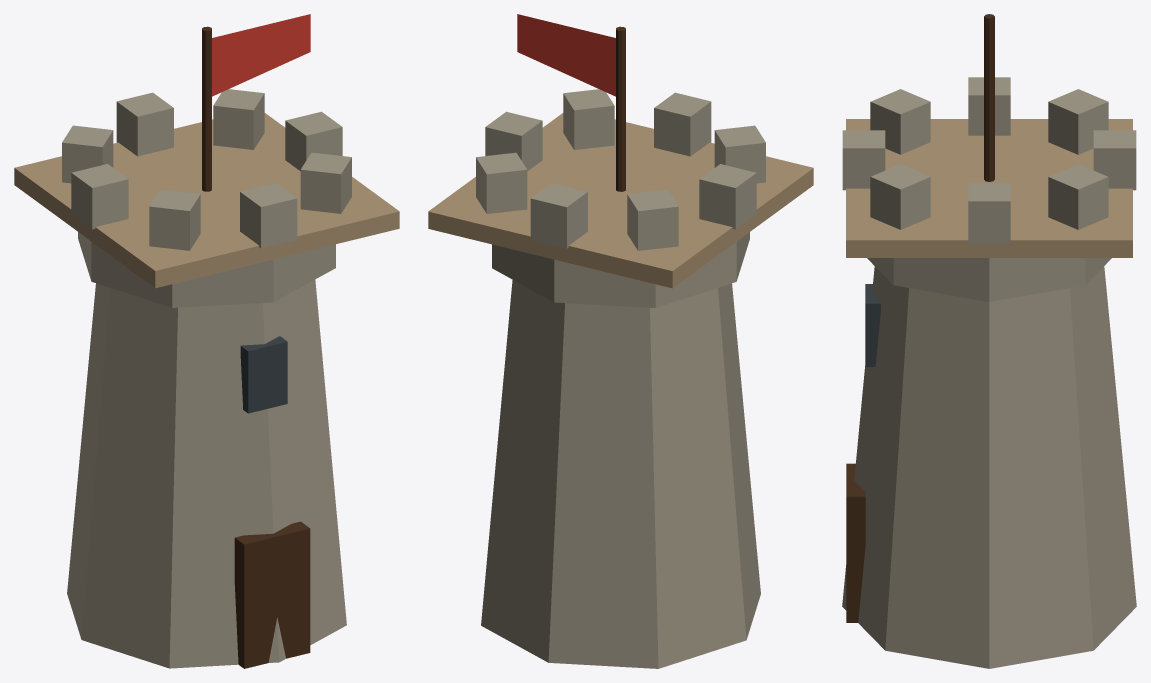
Rendered from era1-watchtower-0gvvD4HQ.glb.
The picture shows the model from 3 angles, left to right: view 1: azimuth 30°, elevation 25°; view 2: azimuth 150°, elevation 25°; view 3: azimuth 270°, elevation 25°; orthographic projection.
Parts seen in each view (by area): view 1: WT_Base, WT_Platform, WT_Door, WT_Crown, WT_Flag, WT_Merlon6, WT_Window, WT_Merlon4, WT_Merlon2, WT_Merlon5, WT_Merlon7, WT_Merlon1 (+3 smaller); view 2: WT_Base, WT_Platform, WT_Crown, WT_Flag, WT_Merlon2, WT_Merlon4, WT_Merlon6, WT_Merlon1, WT_Merlon3, WT_Merlon7, WT_Merlon0, WT_Merlon5 (+1 smaller); view 3: WT_Base, WT_Platform, WT_Crown, WT_Merlon1, WT_Merlon7, WT_Merlon3, WT_Merlon5, WT_Door, WT_Merlon0, WT_Merlon2, WT_Merlon6, WT_Merlon4 (+2 smaller).
Boxes of the visible parts, x1,y1,x2,y2 form: WT_Base: (67,280,346,668); WT_Platform: (14,113,399,288); WT_Door: (234,521,310,668); WT_Crown: (78,232,335,307); WT_Flag: (212,14,310,96); WT_Merlon6: (240,183,297,248); WT_Window: (240,336,287,413); WT_Merlon4: (71,164,128,229); WT_Merlon2: (116,92,173,156); WT_Merlon5: (149,189,200,250); WT_Merlon7: (300,152,351,213); WT_Merlon1: (213,89,264,149); WT_Base: (481,280,760,668); WT_Platform: (428,113,813,288); WT_Crown: (492,232,749,308); WT_Flag: (517,14,615,96); WT_Merlon2: (530,183,587,248); WT_Merlon4: (699,164,756,229); WT_Merlon6: (654,92,711,156); WT_Merlon1: (476,152,527,213); WT_Merlon3: (627,189,678,250); WT_Merlon7: (563,89,614,149); WT_Merlon0: (485,111,542,171); WT_Merlon5: (714,125,765,183); WT_Base: (842,266,1136,668); WT_Platform: (846,119,1132,257); WT_Crown: (867,258,1111,301); WT_Merlon1: (1048,164,1108,229); WT_Merlon7: (870,164,930,229); WT_Merlon3: (1048,89,1108,154); WT_Merlon5: (870,89,930,154); WT_Door: (846,463,865,622); WT_Merlon0: (968,183,1010,243); WT_Merlon2: (1093,130,1136,190); WT_Merlon6: (842,130,885,190); WT_Merlon4: (968,77,1010,135).
Size of the model in its own units: 3.8 by 8.4 by 3.8.
